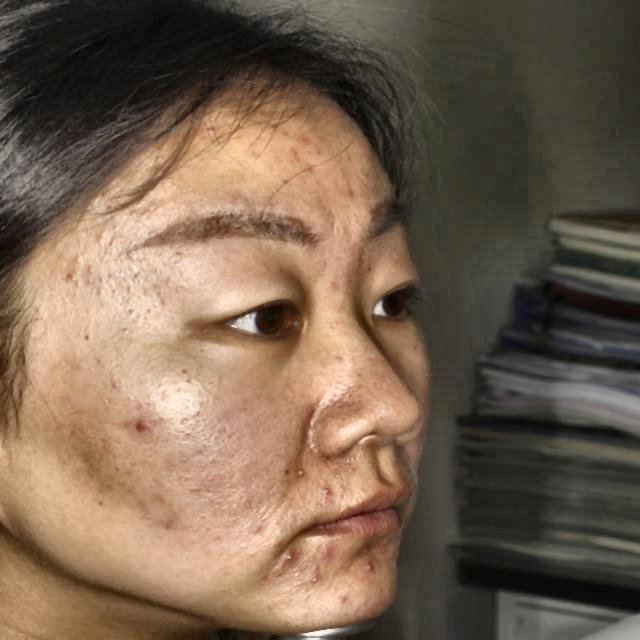pustule: (283, 458, 309, 482), (358, 556, 380, 577), (202, 122, 226, 140), (319, 479, 336, 504), (318, 543, 338, 562), (128, 414, 147, 432), (298, 131, 311, 156), (278, 553, 298, 567), (311, 567, 320, 597)
